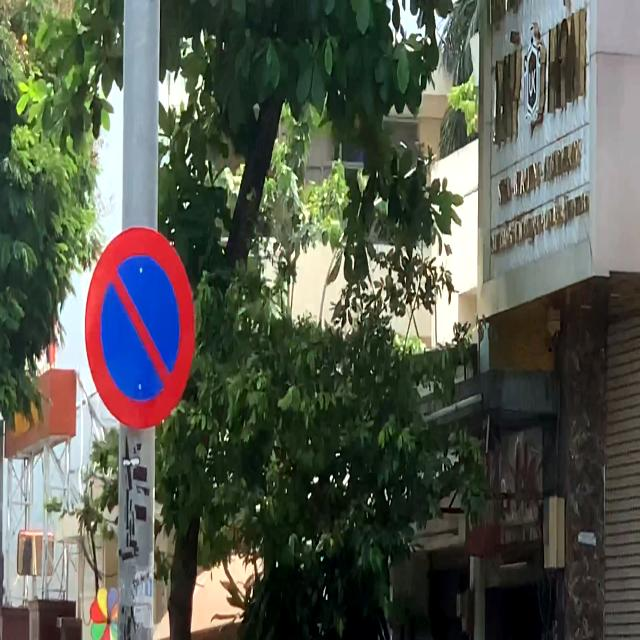P.131a: (84, 225, 195, 432)
